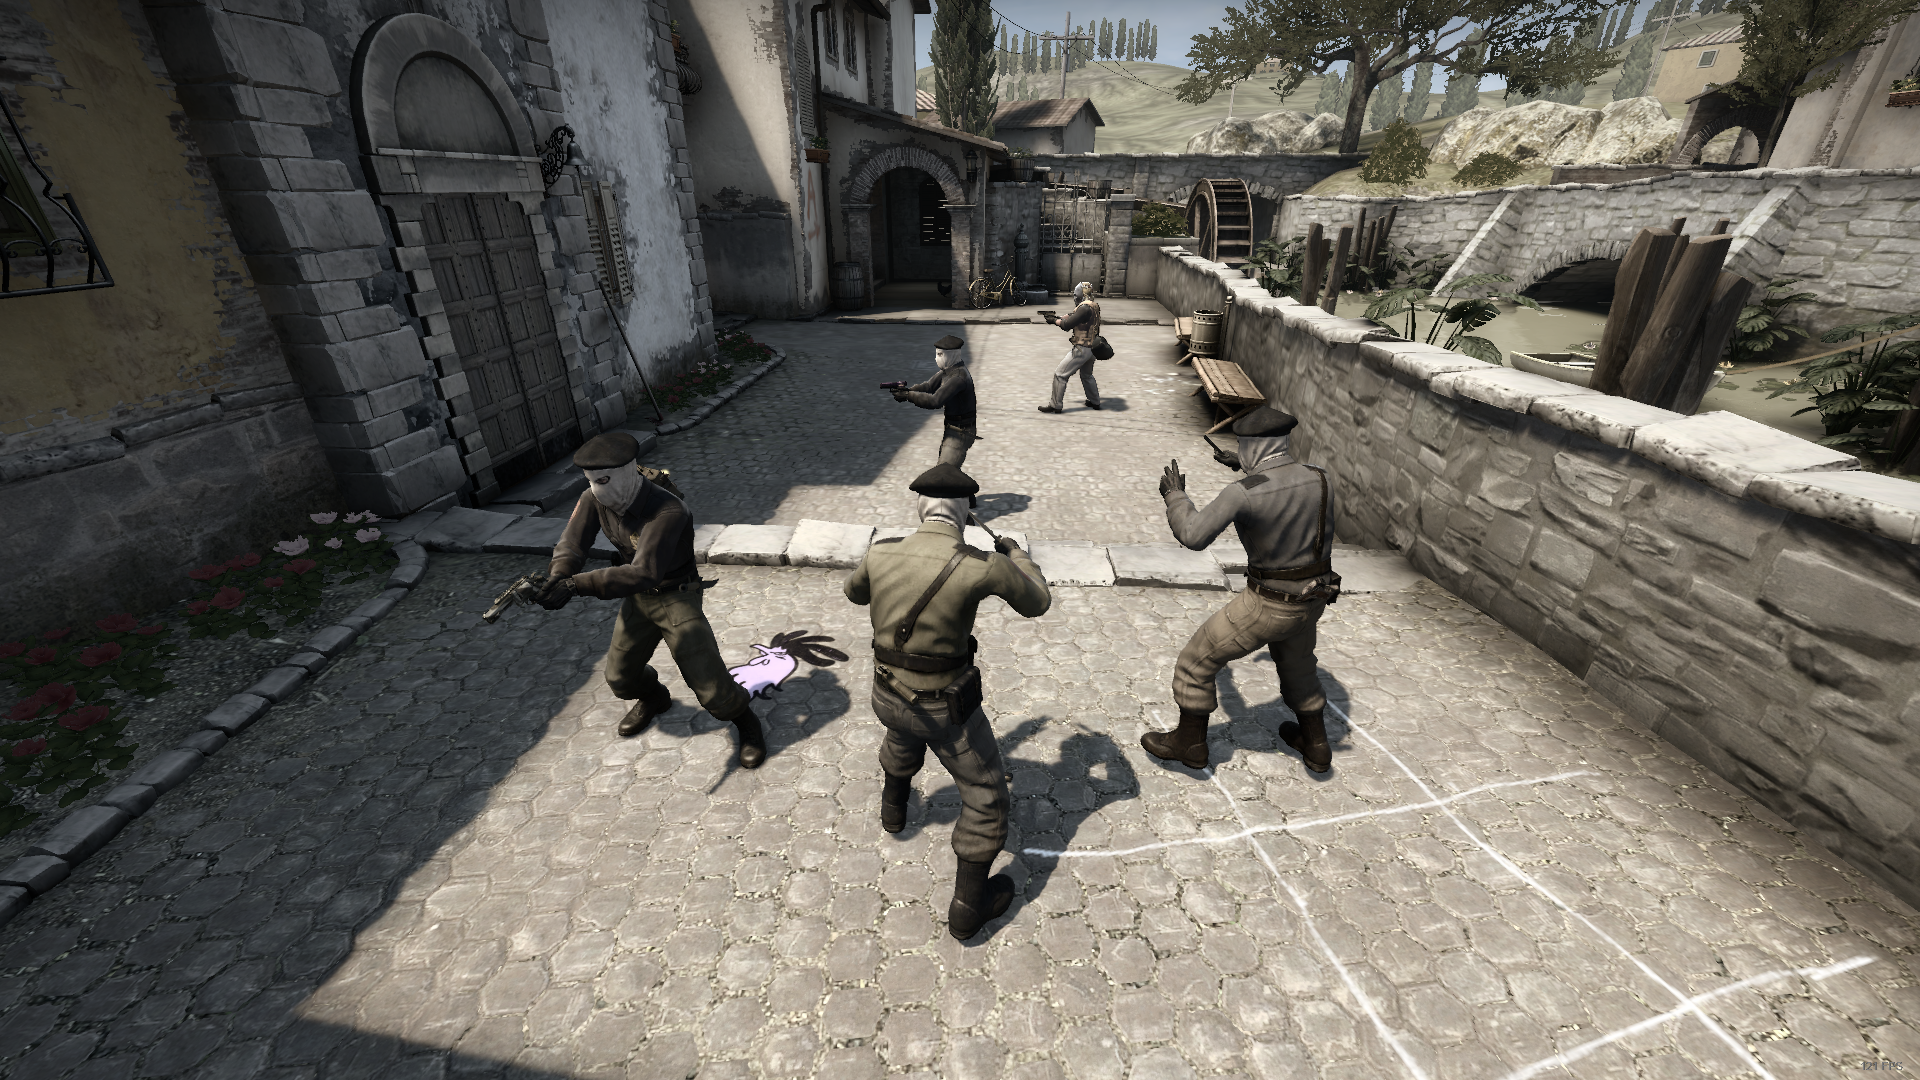t: (847, 464, 1052, 938), (535, 433, 767, 767), (1139, 407, 1342, 777), (897, 336, 978, 463)
